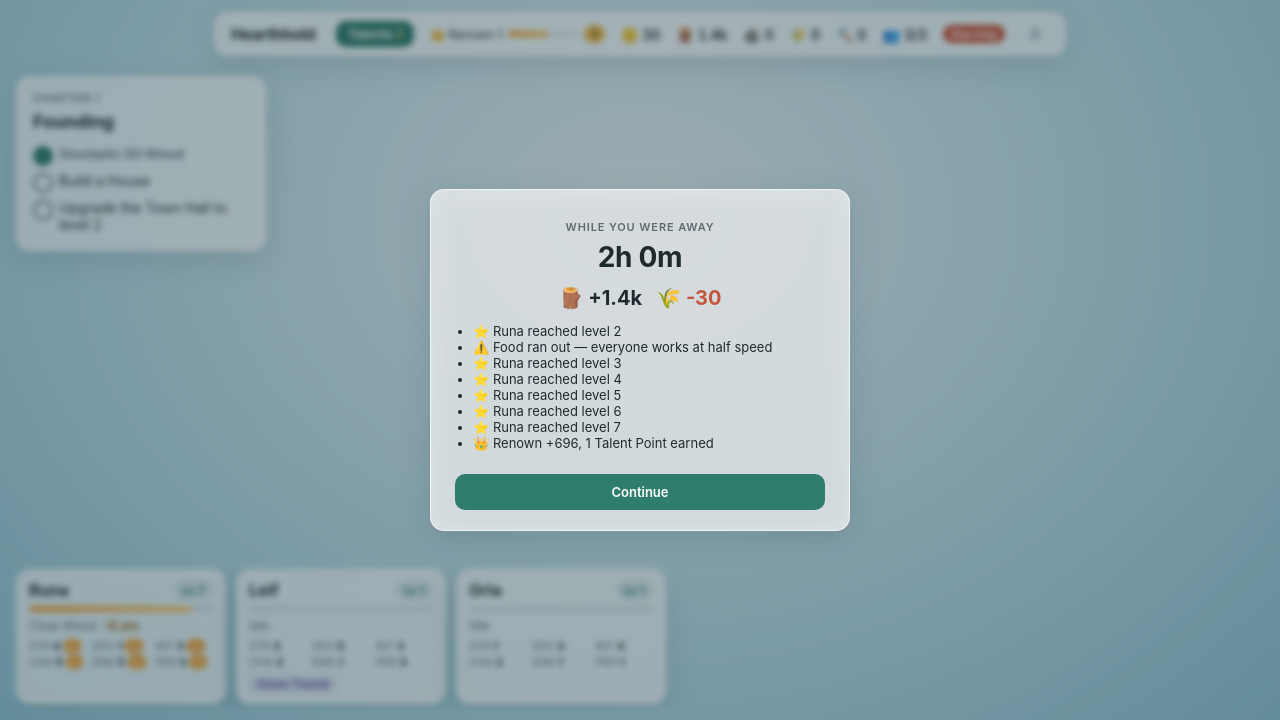
Scenario: returning after two hours shows the Report of Offline Progress, and Continue dismisses it
The image size is (1280, 720).
Expected: the heading "2h 0m" is shown, [598,240,682,274]
Step 1. Click the button "Continue" → [640, 492], box [455,474,825,510]
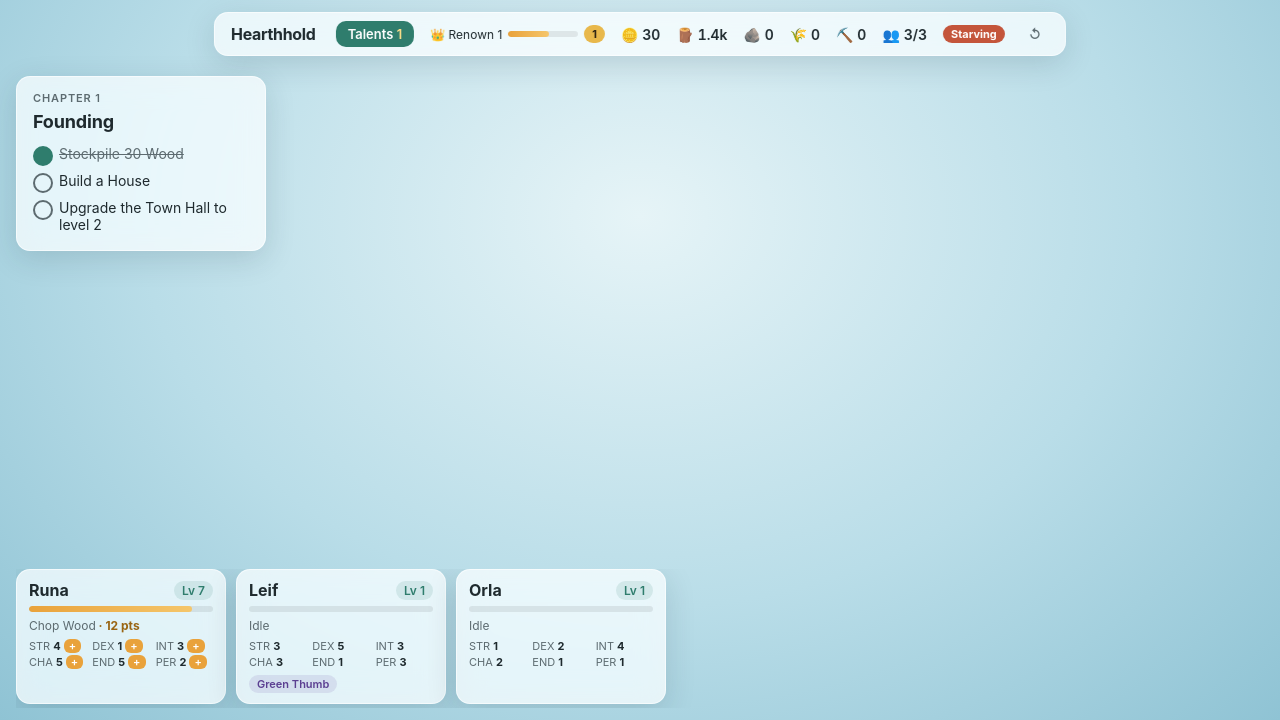
Result: the dialog is gone
